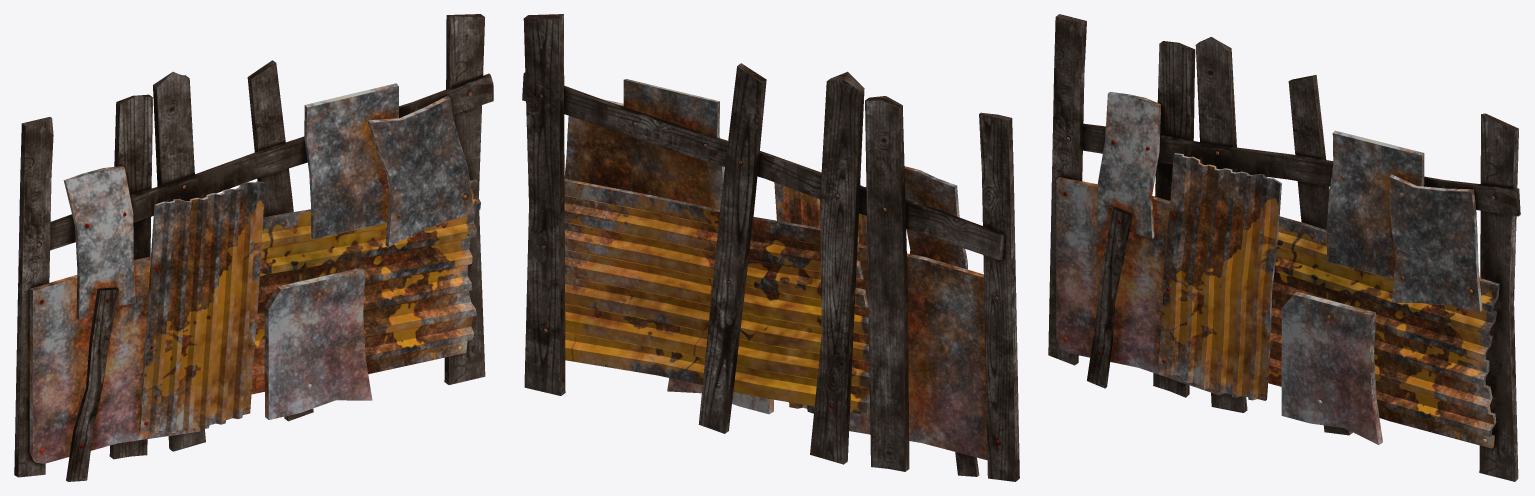
Rendered from rusty_fence_part_3.glb.
3 views of the same model, side by side, from view 1: azimuth 30°, elevation 25°; view 2: azimuth 150°, elevation 25°; view 3: azimuth 330°, elevation 25° (orthographic). The views are drawn at different scales.
Visible parts, largest first — view 1: Plane.017; view 2: Plane.017; view 3: Plane.017.
Boxes of the visible parts, x1,y1,x2,y2 form: Plane.017: (14, 14, 493, 481); Plane.017: (522, 14, 1019, 481); Plane.017: (1048, 14, 1520, 481).
Size of the model in its own units: 2.83 by 2.15 by 0.2095.
1 material, 1 textured.
